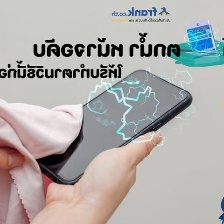phone: (14, 63, 194, 190)
